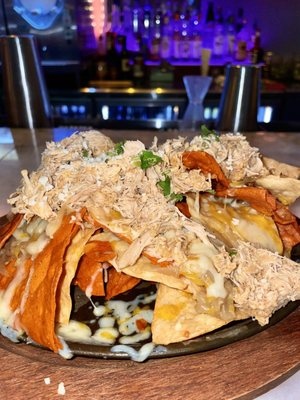pasta: (180, 75, 214, 131)
